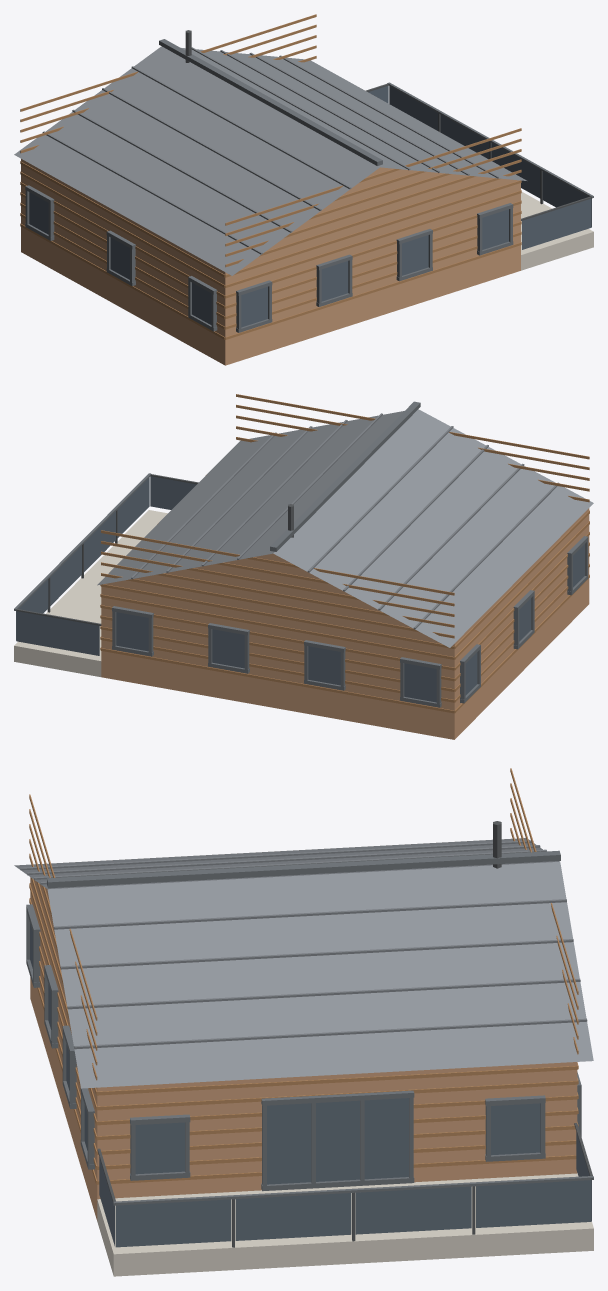
The picture shows the model from 3 angles, top to bottom: view 1: azimuth 30°, elevation 25°; view 2: azimuth 150°, elevation 25°; view 3: azimuth 270°, elevation 25°; orthographic projection. The views are drawn at different scales.
Parts seen in each view (by area): view 1: slate_lt, timber_stain, timber_stain_dk, slate_dk, slate, window_glass_005, deck_grey, window_glass_002, window_glass_004, window_glass_001, window_glass_020, window_glass_019 (+7 smaller); view 2: slate_lt, timber_stain, timber_stain_dk, slate_dk, deck_grey, slate, window_glass_006, window_glass_013, window_glass_015, window_glass_012, window_glass_014, window_glass_005 (+5 smaller); view 3: slate_lt, timber_stain, slate_dk, deck_grey, timber_stain_dk, slate, window_glass_001, window_glass_003, window_glass_002, window_glass_004, window_glass_007, window_glass_009 (+4 smaller).
Boxes of the visible parts, <box> form: slate_lt: <box>14,46,526,275</box>; timber_stain: <box>21,159,520,365</box>; timber_stain_dk: <box>20,14,521,339</box>; slate_dk: <box>25,39,593,332</box>; slate: <box>42,47,498,254</box>; window_glass_005: <box>522,198,591,249</box>; deck_grey: <box>521,192,593,270</box>; window_glass_002: <box>491,143,540,198</box>; window_glass_004: <box>389,86,438,130</box>; window_glass_001: <box>542,171,591,226</box>; window_glass_020: <box>321,261,348,301</box>; window_glass_019: <box>241,286,267,327</box>; slate_lt: <box>97,409,593,647</box>; timber_stain: <box>101,474,589,739</box>; timber_stain_dk: <box>100,394,589,713</box>; slate_dk: <box>14,401,588,707</box>; deck_grey: <box>14,510,167,676</box>; slate: <box>131,413,559,629</box>; window_glass_006: <box>16,611,99,655</box>; window_glass_013: <box>212,629,244,668</box>; window_glass_015: <box>404,663,436,702</box>; window_glass_012: <box>116,612,148,651</box>; window_glass_014: <box>308,646,340,685</box>; window_glass_005: <box>150,476,196,509</box>; slate_lt: <box>14,838,593,1088</box>; timber_stain: <box>30,877,577,1220</box>; slate_dk: <box>26,850,593,1205</box>; deck_grey: <box>97,1173,593,1276</box>; timber_stain_dk: <box>29,768,578,1184</box>; slate: <box>20,840,587,1049</box>; window_glass_001: <box>115,1199,231,1247</box>; window_glass_003: <box>355,1186,471,1234</box>; window_glass_002: <box>235,1193,351,1240</box>; window_glass_004: <box>476,1180,591,1227</box>; window_glass_007: <box>267,1103,311,1184</box>; window_glass_009: <box>364,1098,408,1179</box>.
Bounding box in the file's own units: 13.22 × 5.32 × 10.6.
